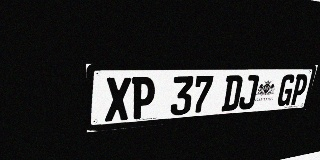3: (170, 76, 194, 116)
7: (190, 76, 214, 114)
D: (221, 75, 244, 111)
G: (276, 74, 296, 107)
J: (238, 75, 260, 110)
P: (130, 77, 156, 120), (289, 74, 309, 105)
X: (105, 77, 131, 122)
